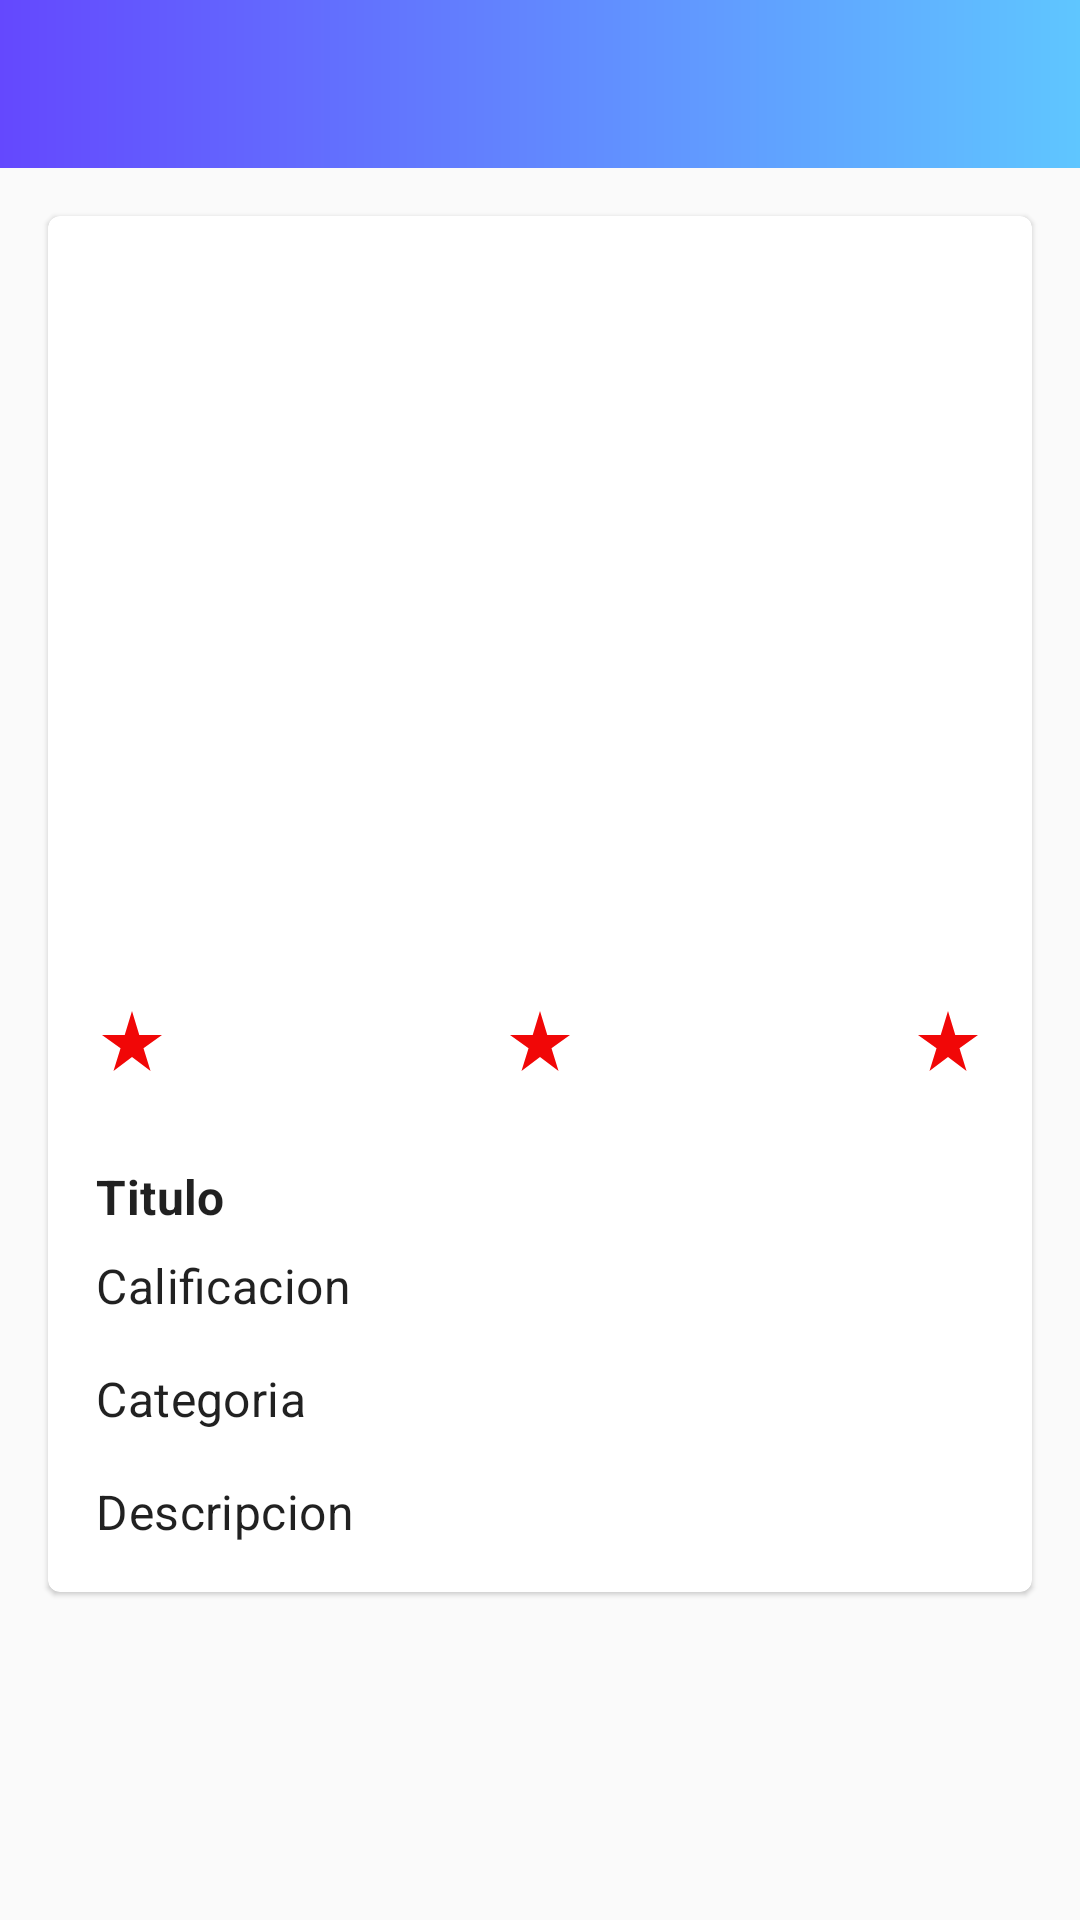

Icon click points for this 1080x1920 phone screenshot, format point (x, y):
star rate: point (132, 1041), point (540, 1041), point (948, 1041)
